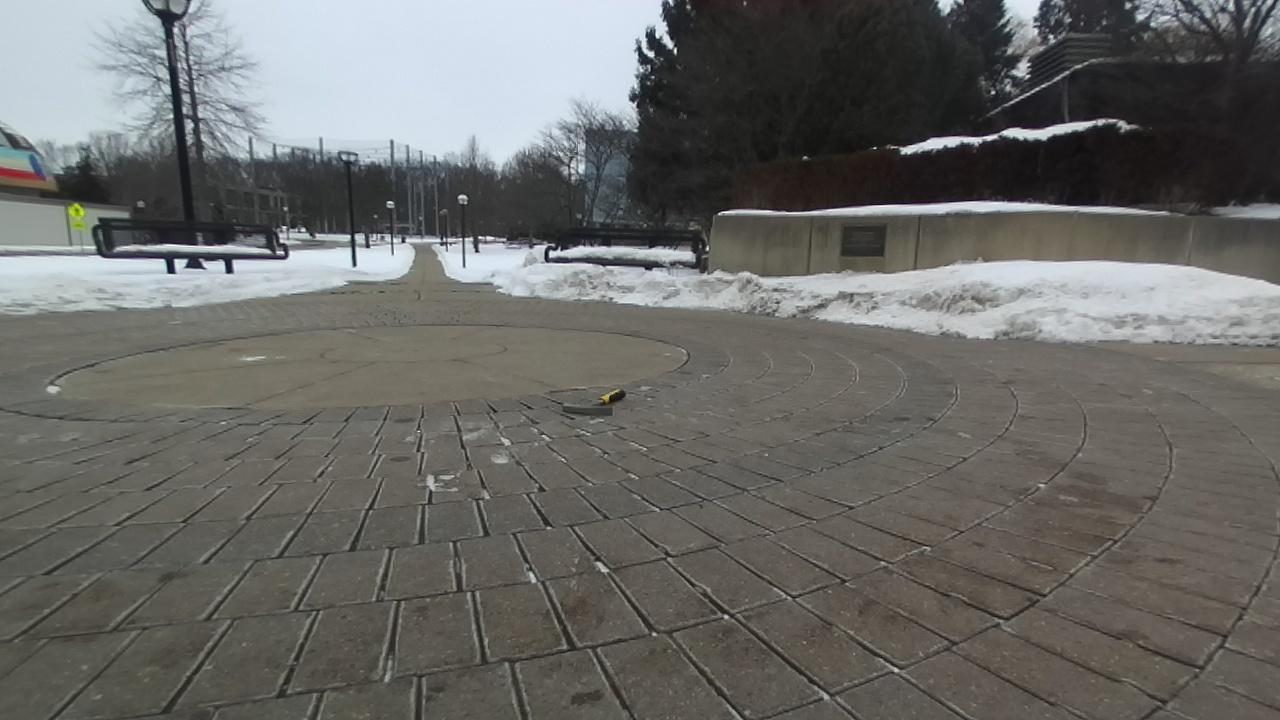pick: (563, 389, 626, 414)
